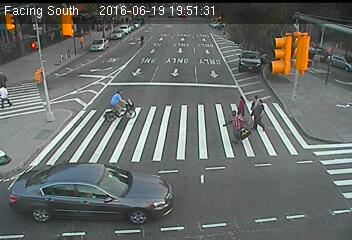neg: (155, 80, 186, 122), (105, 83, 134, 123), (172, 131, 199, 166), (268, 156, 292, 188), (99, 165, 123, 196), (299, 101, 322, 132), (55, 39, 78, 70), (180, 34, 202, 63), (47, 115, 68, 143), (28, 180, 49, 208), (181, 209, 201, 236), (22, 68, 42, 94), (225, 35, 244, 60), (150, 49, 168, 73), (285, 47, 302, 71), (318, 56, 334, 77), (223, 164, 236, 183)
pos: (245, 93, 275, 132), (222, 110, 248, 146), (236, 94, 249, 112)
